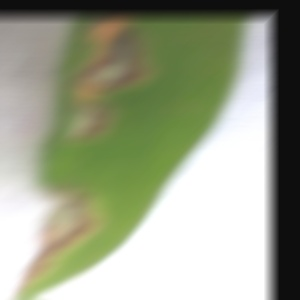Brown_Spot: (10, 186, 114, 278), (68, 22, 157, 95), (51, 91, 125, 142)
